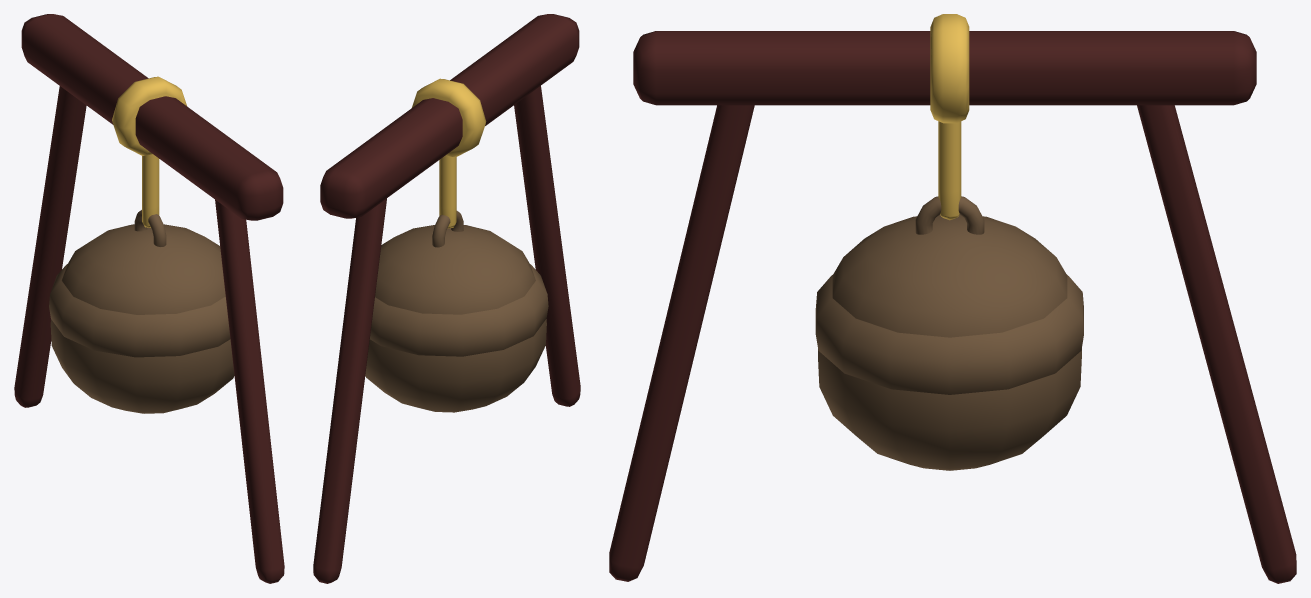
The model's file is HotPlate2.fbx.
The picture shows the model from 3 angles, left to right: view 1: azimuth 30°, elevation 25°; view 2: azimuth 150°, elevation 25°; view 3: azimuth 270°, elevation 25°; orthographic projection. The views are drawn at different scales.
Parts seen in each view (by area): view 1: pCylinder2; view 2: pCylinder2; view 3: pCylinder2.
Boxes of the visible parts, x1,y1,x2,y2 form: pCylinder2: (14,14,284,583); pCylinder2: (313,14,580,583); pCylinder2: (609,14,1296,583).
Bounding box in the file's own units: 0.9886 × 2.22 × 2.47.
